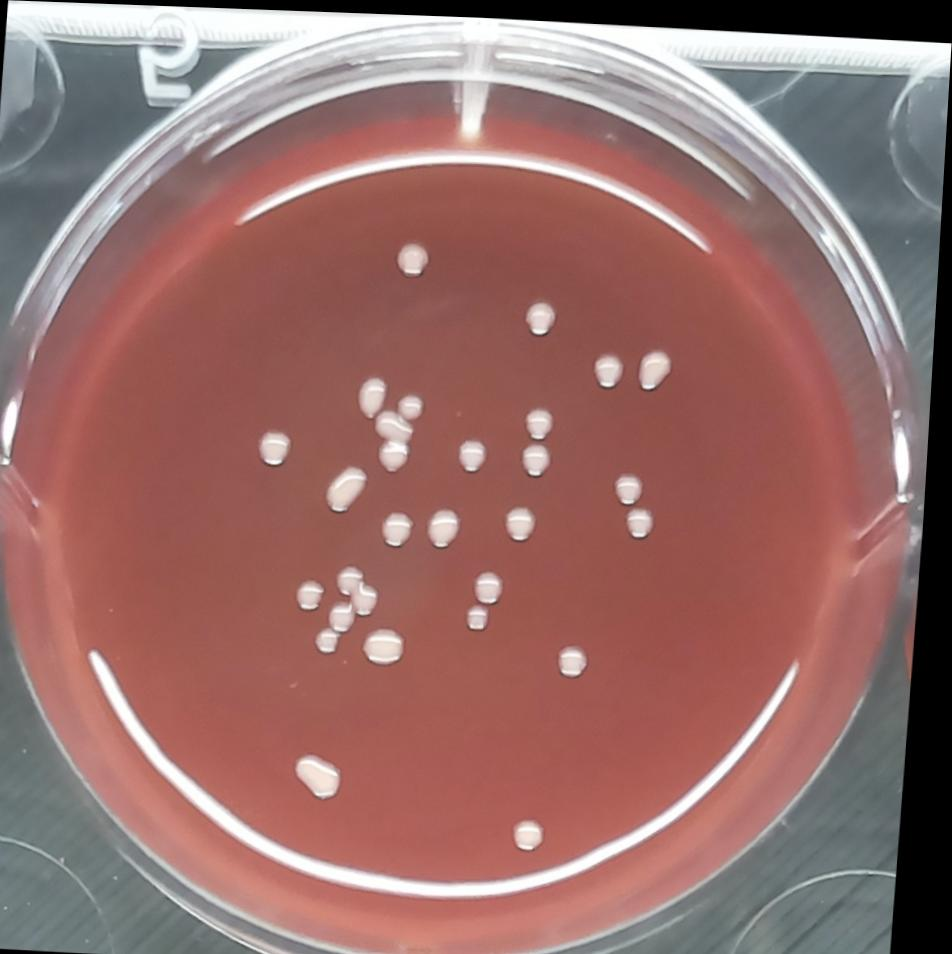krosea: (293, 745, 360, 804), (327, 458, 376, 517), (363, 620, 419, 666), (637, 337, 683, 390), (521, 286, 565, 341), (426, 499, 471, 550), (392, 233, 440, 278), (356, 368, 397, 419), (255, 425, 302, 469), (589, 344, 633, 389), (506, 497, 547, 545), (519, 806, 558, 854), (458, 429, 496, 475), (294, 571, 335, 613), (522, 437, 564, 478), (385, 505, 425, 548), (561, 635, 599, 680), (625, 497, 665, 539), (375, 407, 421, 442), (379, 436, 419, 476), (478, 563, 516, 605), (614, 462, 652, 504), (524, 399, 566, 436), (338, 560, 376, 596), (355, 579, 390, 616), (399, 386, 436, 421), (468, 597, 501, 633), (334, 597, 366, 634), (318, 623, 350, 655)
